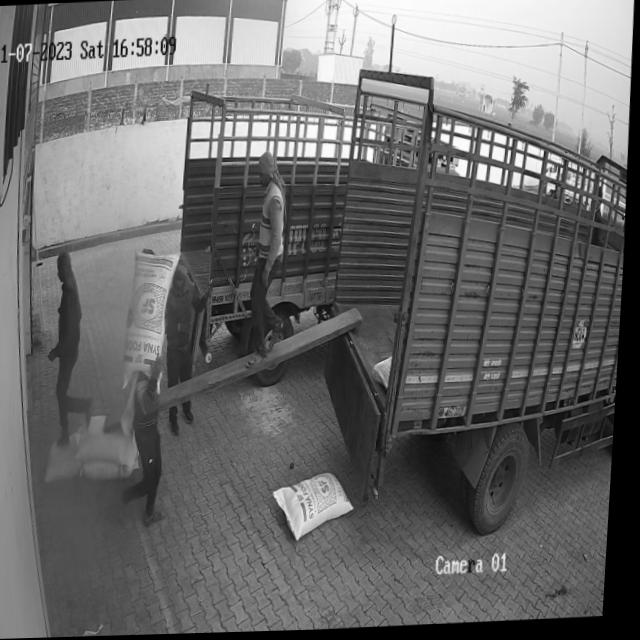sack: (123, 246, 186, 389), (277, 473, 362, 543), (80, 413, 143, 468), (48, 429, 88, 485), (85, 462, 141, 480)
